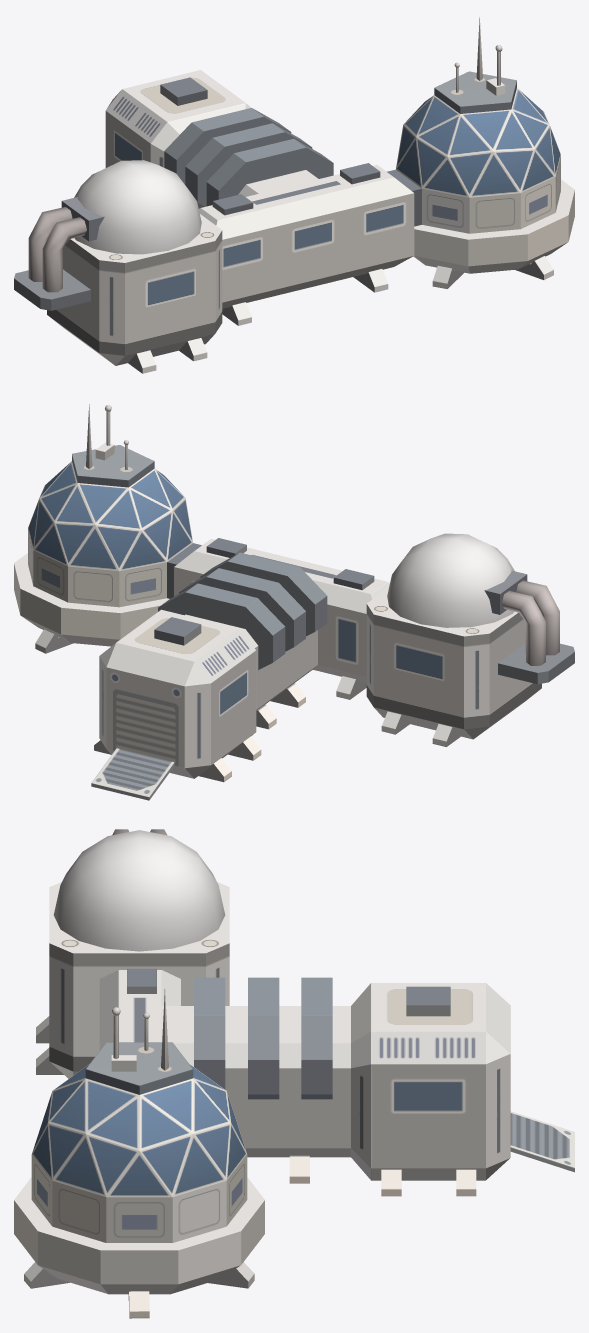
The model's file is XinHaoFaBu.glb.
The picture shows the model from 3 angles, top to bottom: view 1: azimuth 30°, elevation 25°; view 2: azimuth 150°, elevation 25°; view 3: azimuth 270°, elevation 25°; orthographic projection. The views are drawn at different scales.
Visible parts, largest first — view 1: XinHaoFaBu; view 2: XinHaoFaBu; view 3: XinHaoFaBu.
Part boxes in pixels (<box>): XinHaoFaBu: <box>14,17,574,373</box>; XinHaoFaBu: <box>14,404,574,800</box>; XinHaoFaBu: <box>14,829,574,1318</box>.
Bounding box in the file's own units: 118 × 48.32 × 84.71.
1 material, 1 textured.
